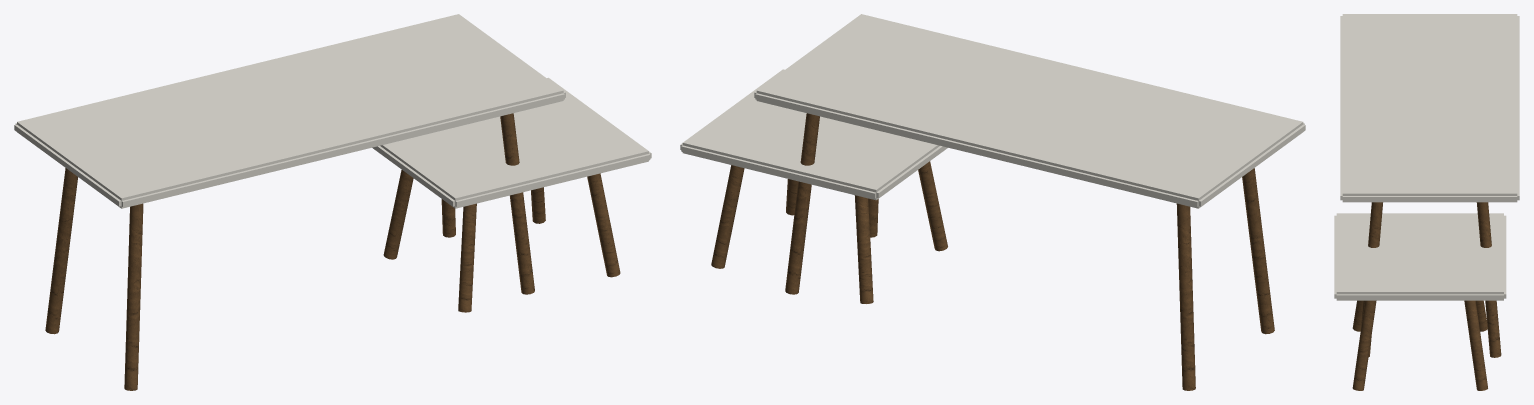
Rendered from fixture_v25_nested_atelier.glb.
The picture shows the model from 3 angles, left to right: view 1: azimuth 30°, elevation 25°; view 2: azimuth 150°, elevation 25°; view 3: azimuth 270°, elevation 25°; orthographic projection. The views are drawn at different scales.
Parts seen in each view (by area): view 1: fixture_v25_nested_atelier_Honed_solid_surface, fixture_v25_nested_atelier_CC0_Oak_veneer; view 2: fixture_v25_nested_atelier_Honed_solid_surface, fixture_v25_nested_atelier_CC0_Oak_veneer; view 3: fixture_v25_nested_atelier_Honed_solid_surface, fixture_v25_nested_atelier_CC0_Oak_veneer.
Part boxes in pixels (x1=…): fixture_v25_nested_atelier_Honed_solid_surface: x1=14, y1=14, x2=651, y2=208; fixture_v25_nested_atelier_CC0_Oak_veneer: x1=45, y1=113, x2=620, y2=390; fixture_v25_nested_atelier_Honed_solid_surface: x1=680, y1=14, x2=1305, y2=208; fixture_v25_nested_atelier_CC0_Oak_veneer: x1=711, y1=113, x2=1274, y2=390; fixture_v25_nested_atelier_Honed_solid_surface: x1=1334, y1=14, x2=1519, y2=300; fixture_v25_nested_atelier_CC0_Oak_veneer: x1=1352, y1=202, x2=1501, y2=390.
Size of the model in its own units: 2.13 by 0.7943 by 0.775.
Materials: 2 (1 with a texture image).
